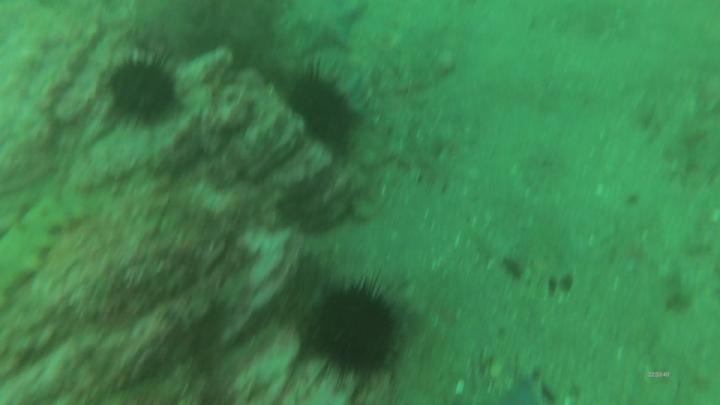echinus: (311, 288, 393, 378), (292, 75, 353, 151), (109, 61, 169, 120)
scallop: (485, 358, 505, 380)
